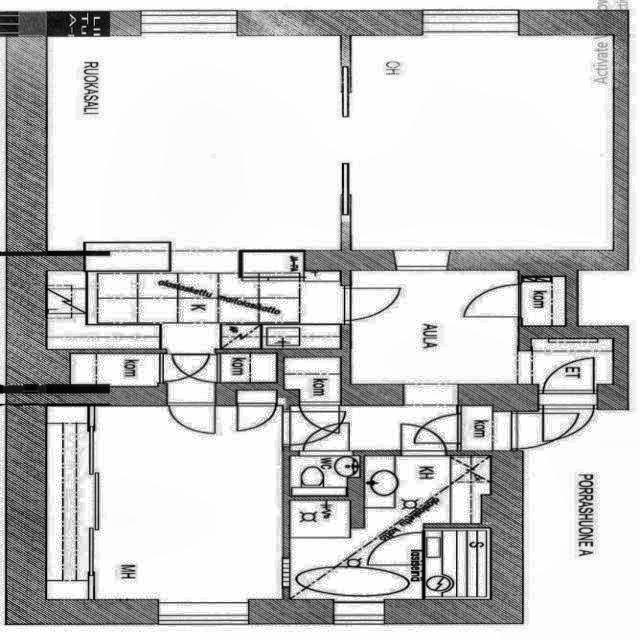room: (290, 456, 360, 496)
